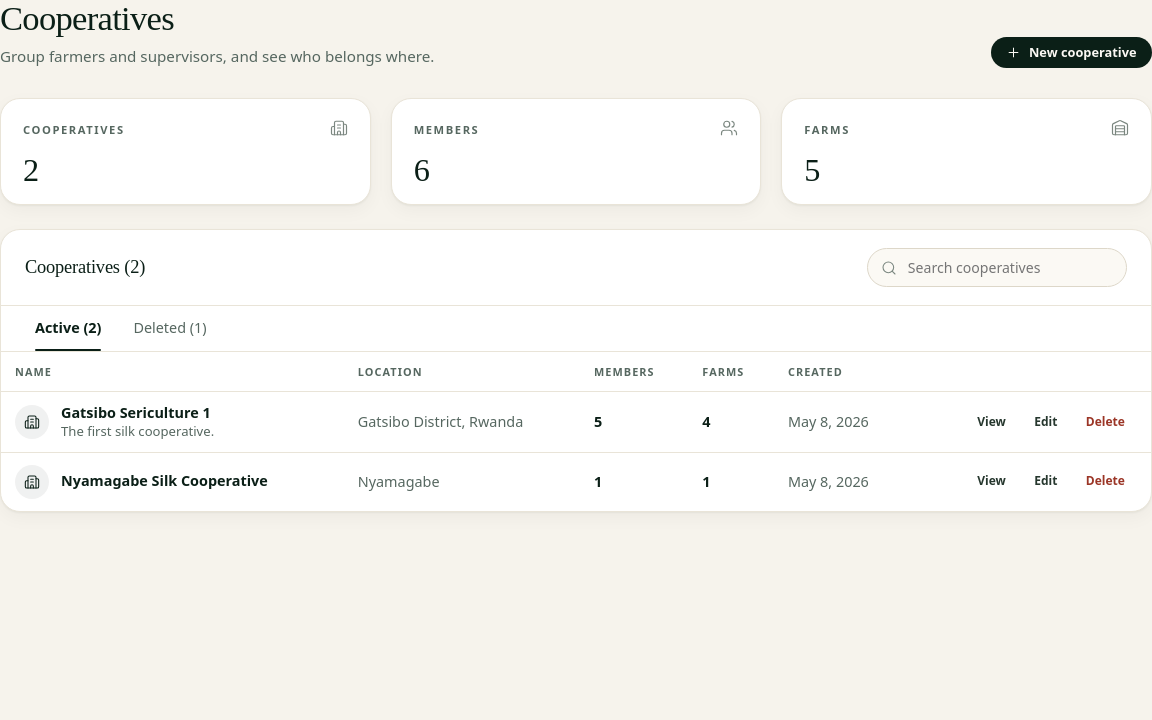
Test: Cooperatives page › creates a cooperative and shows it first
Expected: the text "Gatsibo Sericulture 1" is shown, left=61, top=404, right=214, bottom=423
Step 1. Click the button "New cooperative" → point(1071, 53), box left=990, top=37, right=1151, bottom=68
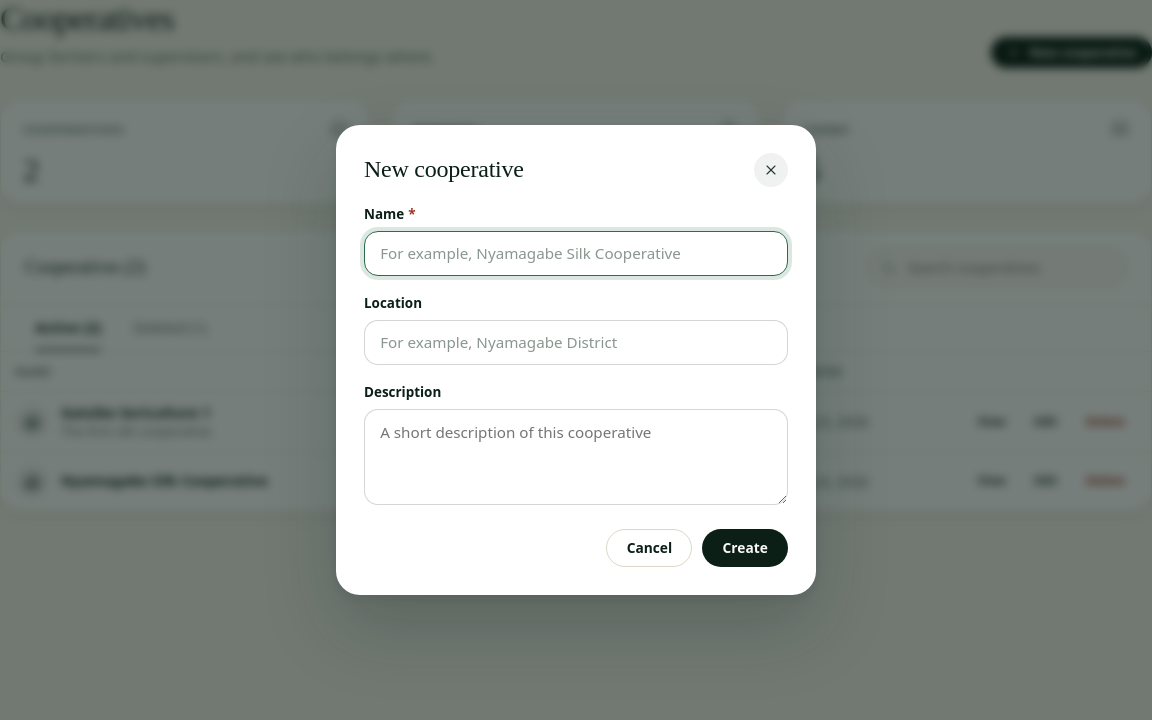
Step 2. Type "Huye Silk" into the field labelled "Name *" → point(576, 253), box left=364, top=231, right=788, bottom=276
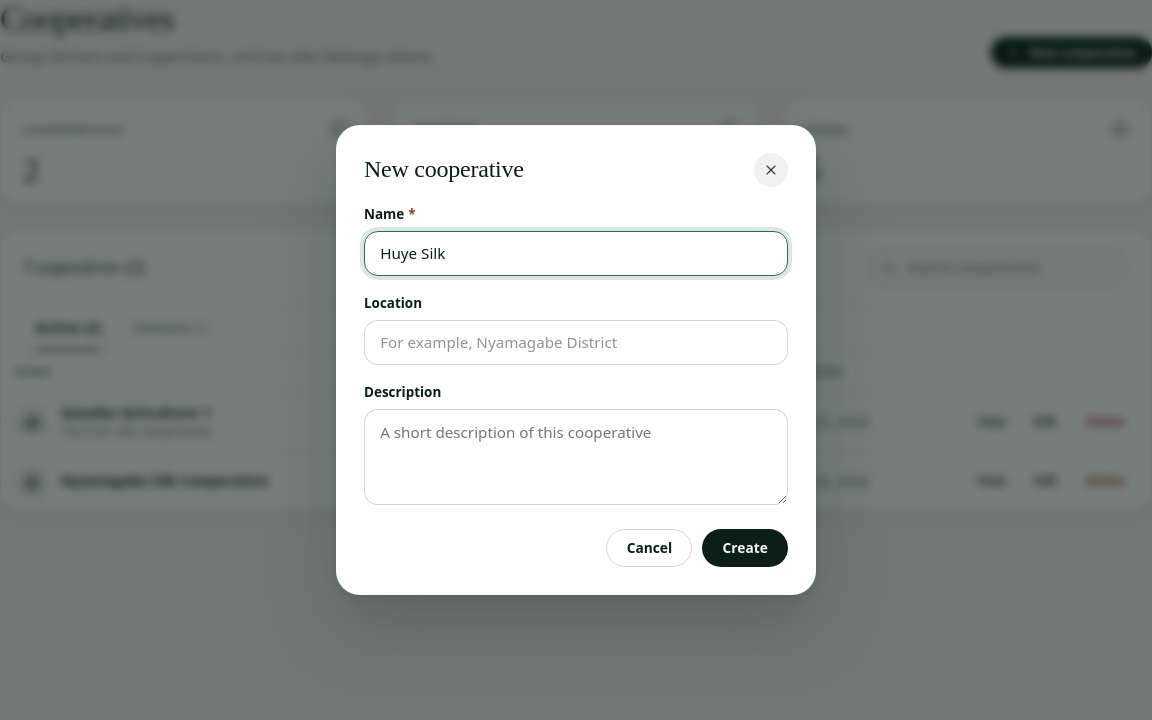
Step 3. Type "Huye" into the field labelled "Location" → point(576, 342), box left=364, top=320, right=788, bottom=365
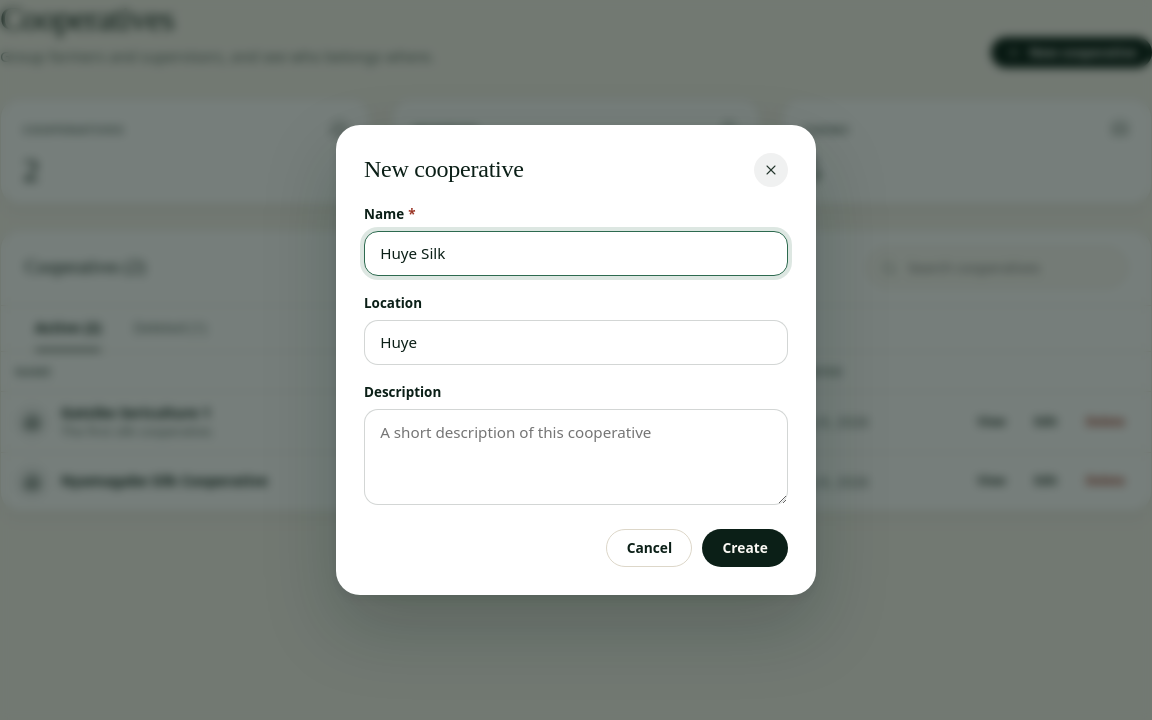
Step 4. Click the button "Create" → point(745, 548), box left=702, top=529, right=788, bottom=567
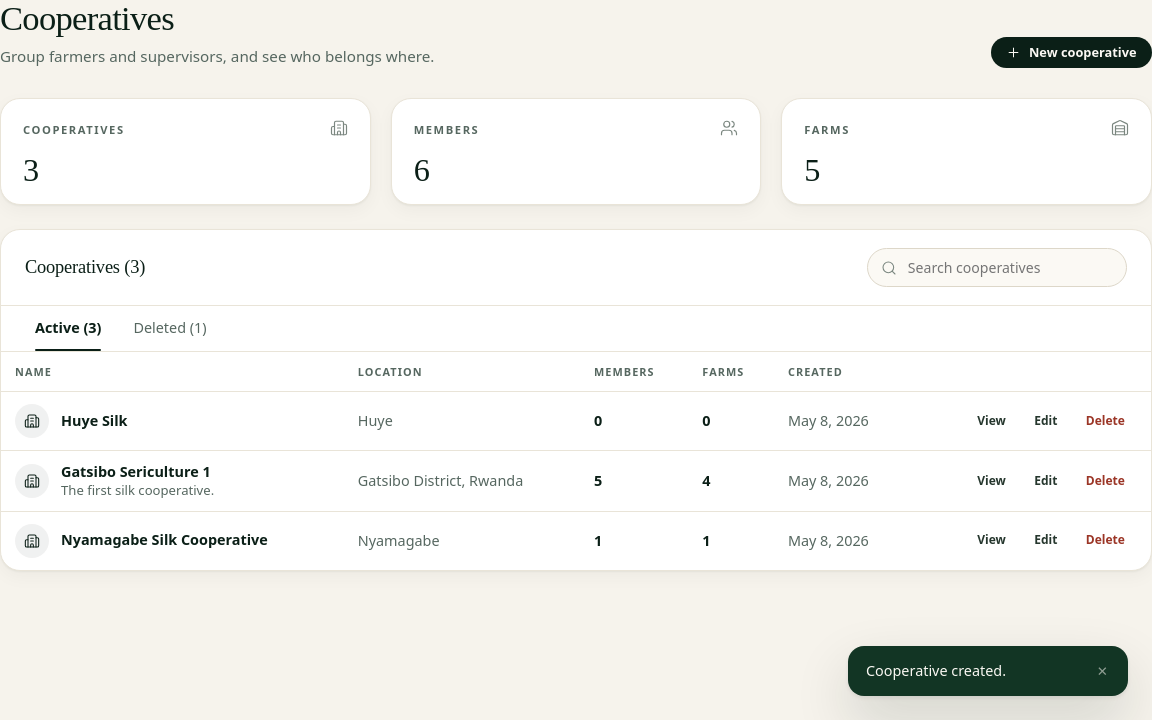
Expected: the text "Huye Silk" is shown, left=61, top=412, right=128, bottom=430
